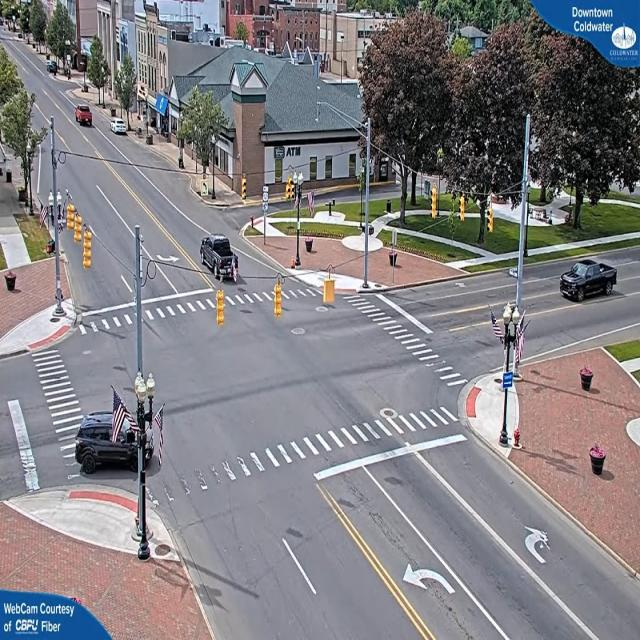car: (75, 400, 141, 477), (559, 257, 617, 302), (200, 237, 240, 282), (111, 120, 130, 138)
